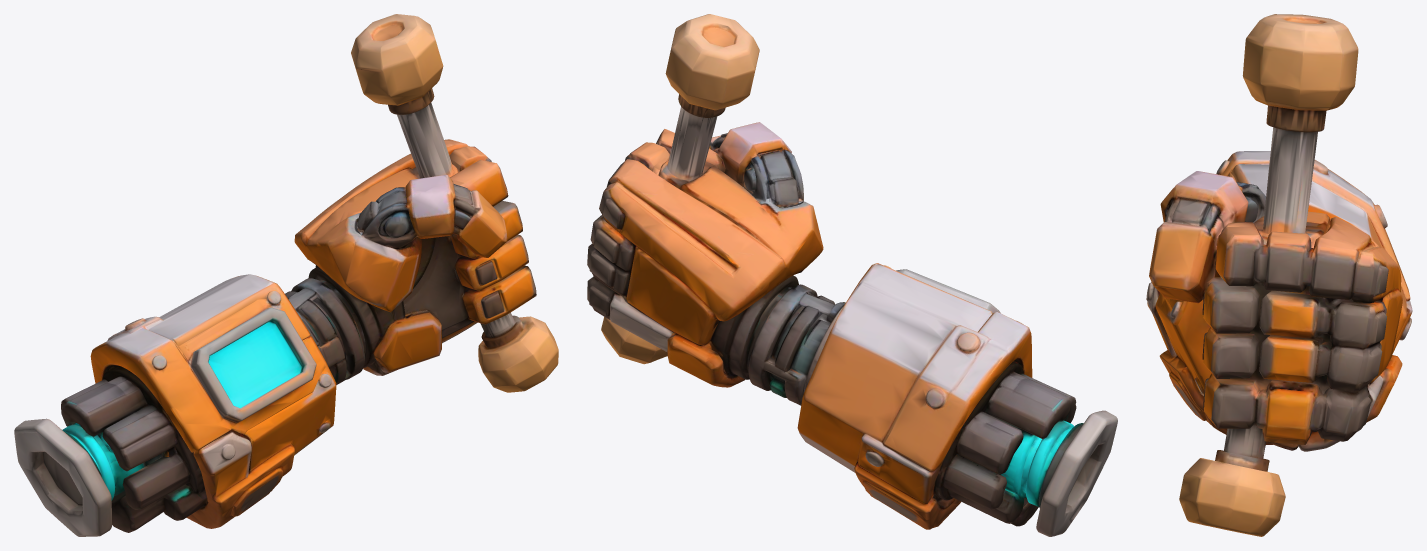
File: fp_hand.glb
The picture shows the model from 3 angles, left to right: view 1: azimuth 30°, elevation 25°; view 2: azimuth 150°, elevation 25°; view 3: azimuth 270°, elevation 25°; orthographic projection. The views are drawn at different scales.
Parts seen in each view (by area): view 1: node_0; view 2: node_0; view 3: node_0.
Part boxes in pixels (x1,y1,x2,y2): node_0: (14,14,558,536); node_0: (587,14,1117,536); node_0: (1146,14,1412,536).
Size of the model in its own units: 1.05 by 0.8708 by 0.38.
1 material, 1 textured.
